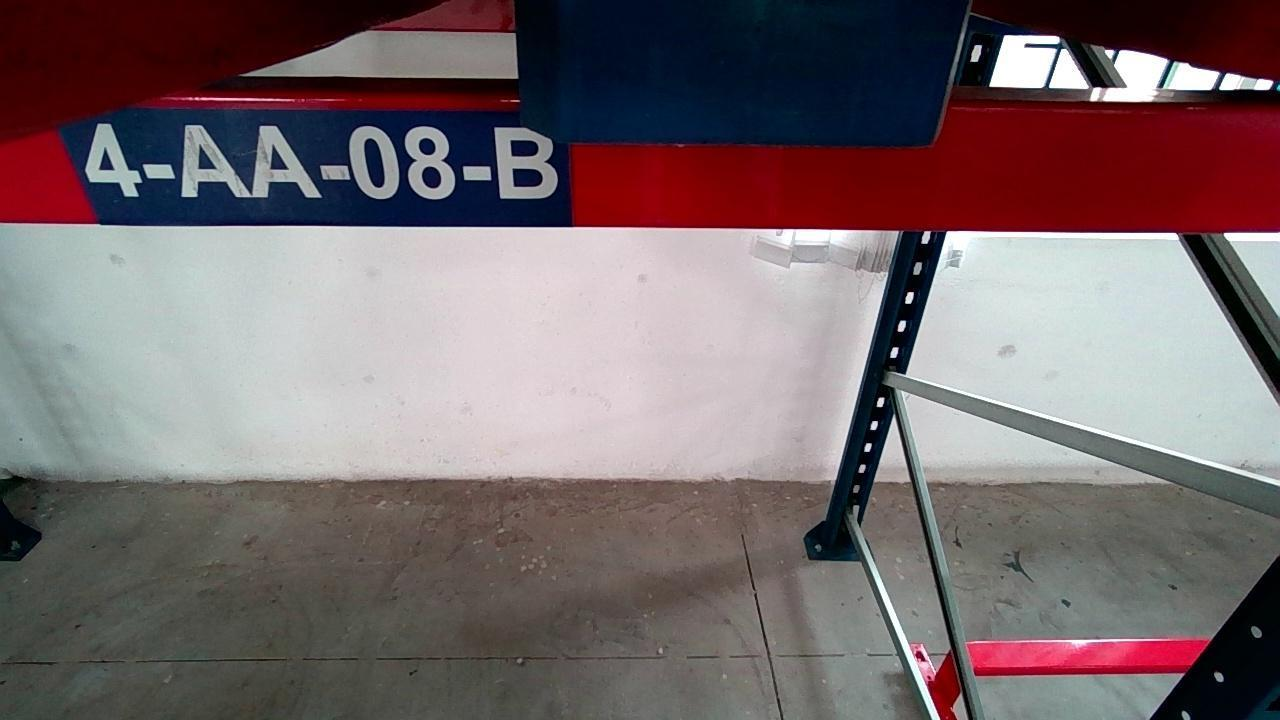h_rack: (0, 103, 1273, 229)
